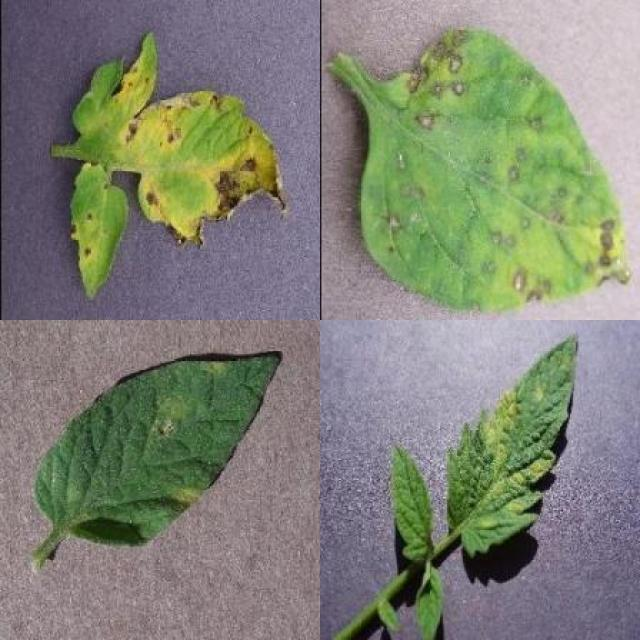Healthy: (391, 440, 435, 561), (416, 565, 443, 640)
Leaf Mold: (32, 352, 282, 548), (448, 332, 578, 558)
Septoria: (358, 27, 628, 313), (68, 36, 286, 248), (68, 165, 128, 302)
